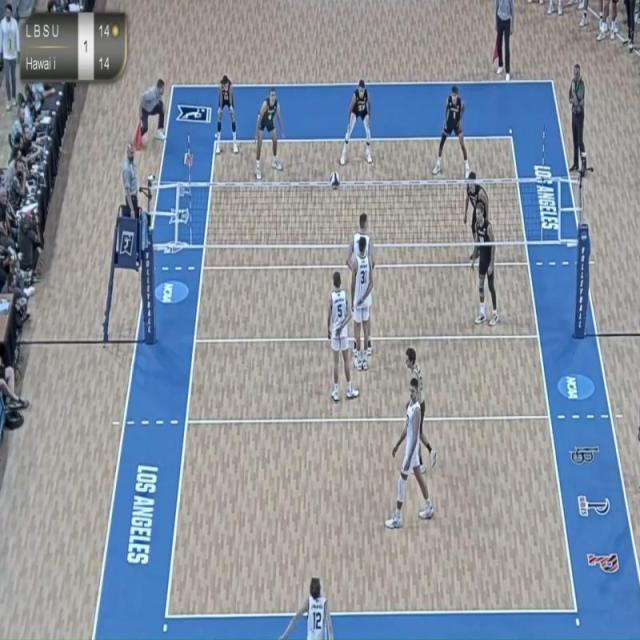volleyball: (327, 167, 343, 193)
